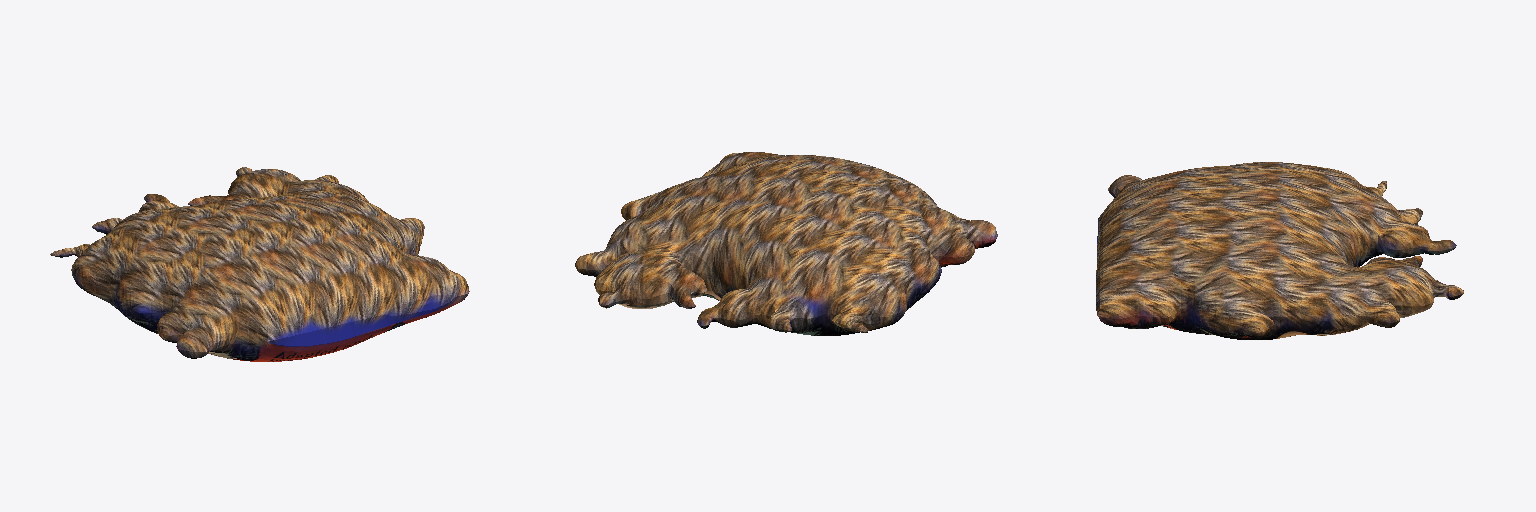
The picture shows the model from 3 angles: view 1: azimuth 30°, elevation 25°; view 2: azimuth 150°, elevation 25°; view 3: azimuth 270°, elevation 25°; orthographic projection.
Parts seen in each view (by area): view 1: Object.1; view 2: Object.1; view 3: Object.1.
Part boxes in pixels (left/top/right/bottom): Object.1: left=50, top=167, right=469, bottom=361; Object.1: left=575, top=152, right=997, bottom=335; Object.1: left=1096, top=162, right=1463, bottom=339.
Size of the model in its own units: 0.5596 by 0.1901 by 0.5691.
Materials: 1 (1 with a texture image).